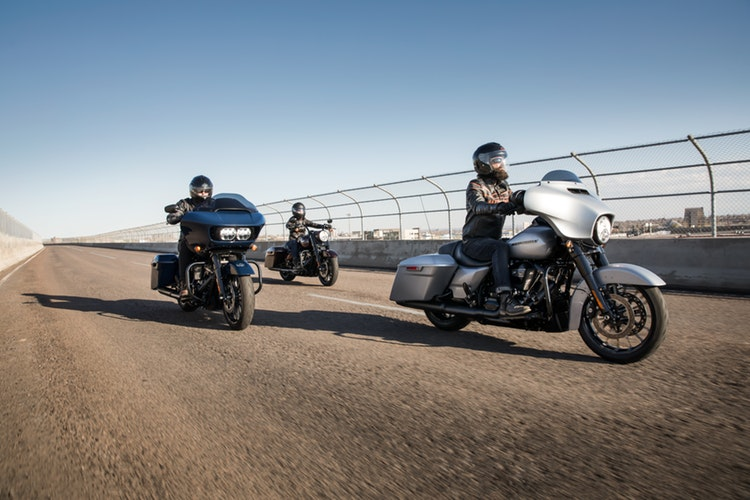helmet: (466, 145, 515, 182), (185, 172, 213, 197), (291, 203, 310, 217)
